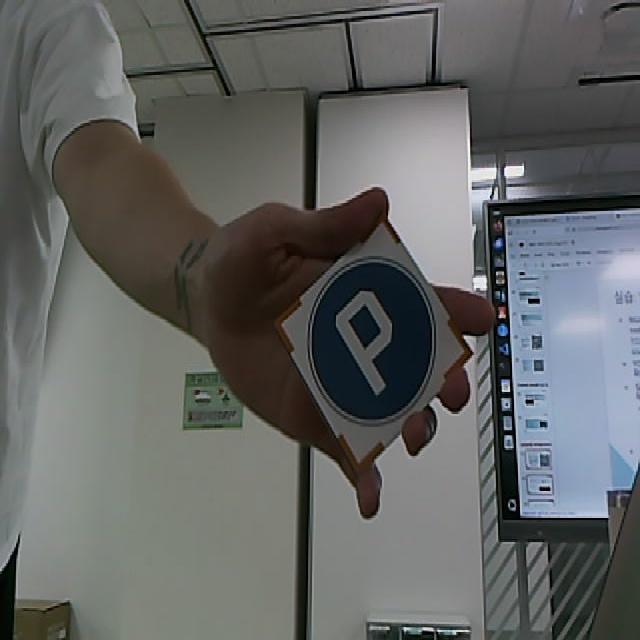parking: (274, 214, 473, 472)
